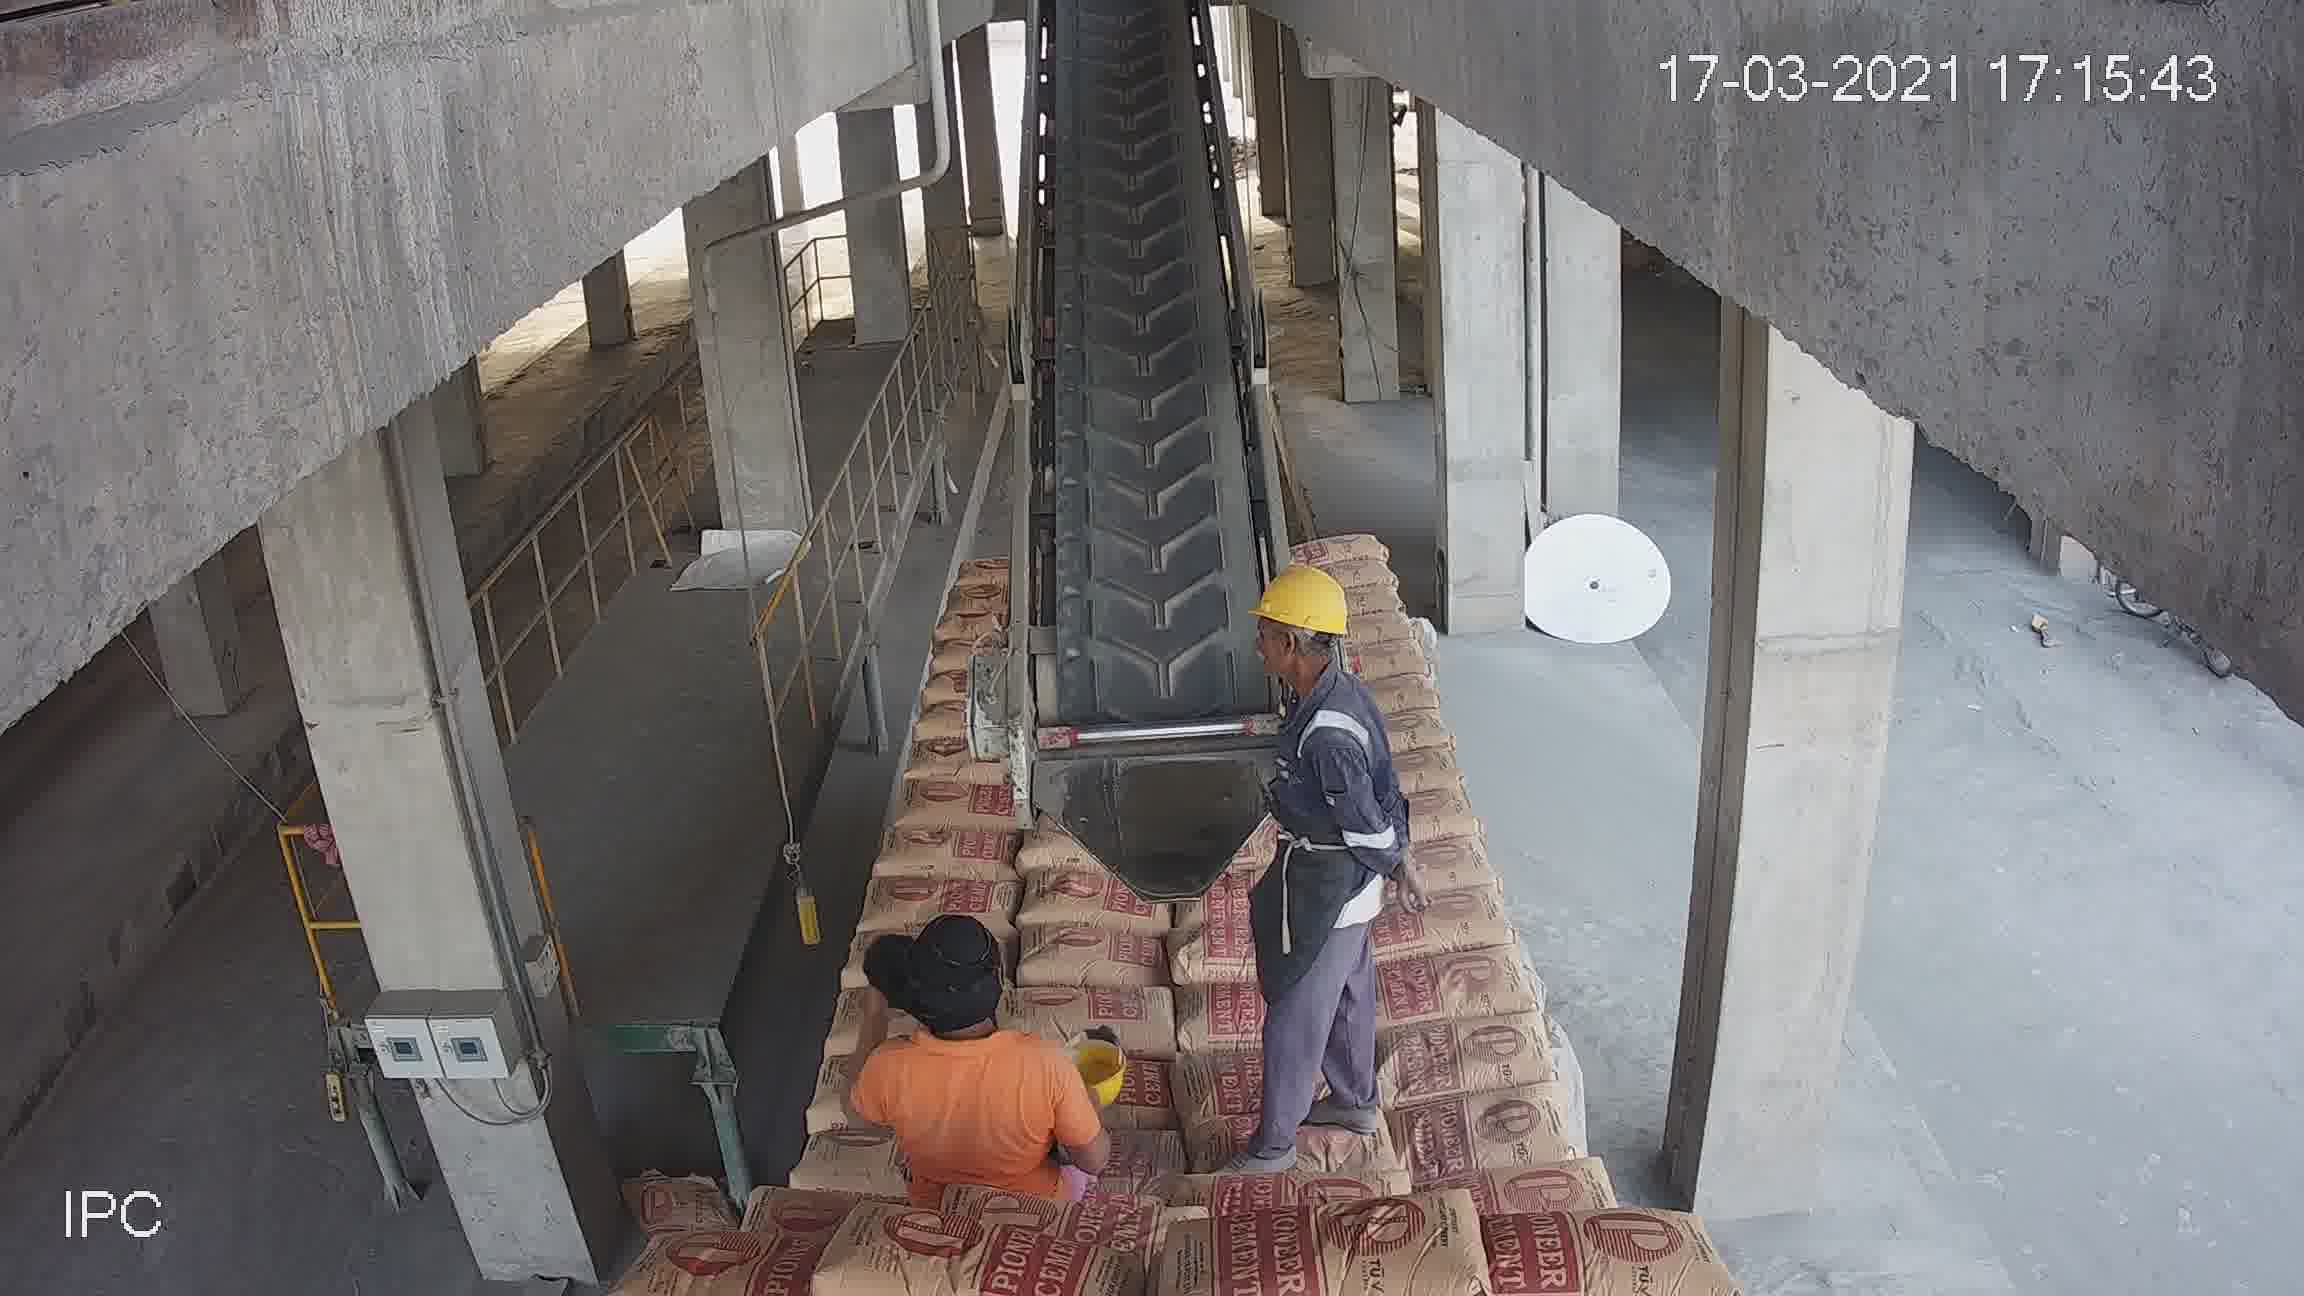bag_h: (1203, 1206, 1529, 1296), (1440, 1203, 1700, 1293), (821, 1226, 1108, 1296), (1413, 1079, 1598, 1176), (1374, 1016, 1556, 1109), (635, 1225, 855, 1296), (1362, 948, 1535, 1032), (1014, 915, 1174, 1003), (1435, 1161, 1608, 1225), (1367, 889, 1510, 965), (1179, 1173, 1399, 1222), (866, 826, 1030, 888), (1044, 987, 1193, 1054), (856, 869, 1025, 926), (902, 783, 1021, 836), (1396, 840, 1499, 897), (1287, 533, 1399, 579), (1291, 532, 1396, 573), (1328, 581, 1416, 619)
belt: (1014, 33, 1277, 829)
